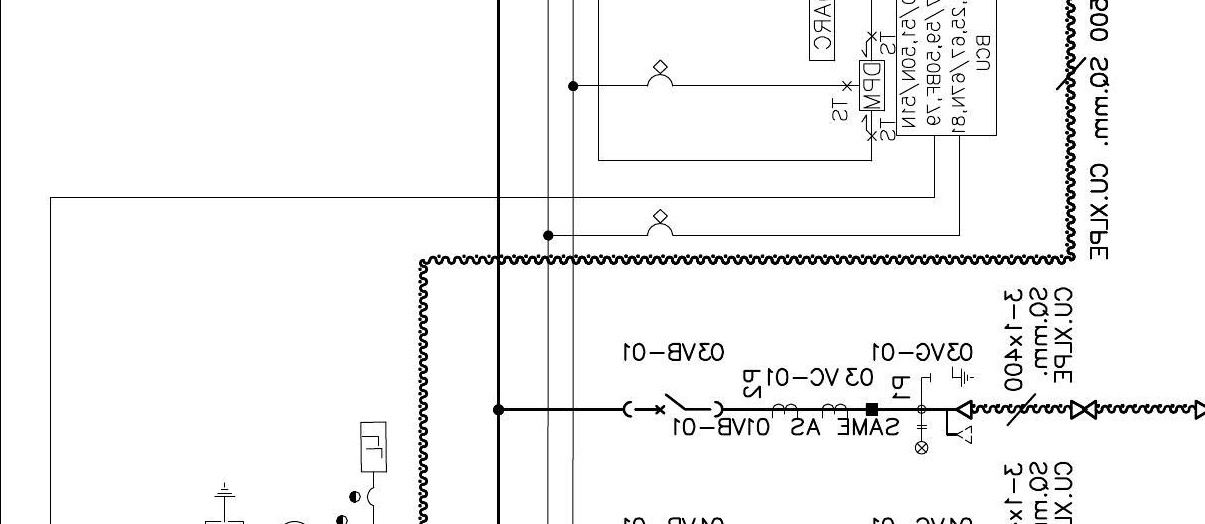22_breaker: (622, 392, 724, 419)
22_gs: (928, 365, 974, 388)
22_ll: (914, 424, 929, 455)
DPM: (858, 59, 886, 112)
LL: (359, 420, 389, 474)
terminator_splicing_kits: (1069, 399, 1097, 420)
terminator_w_future: (944, 399, 974, 446)
